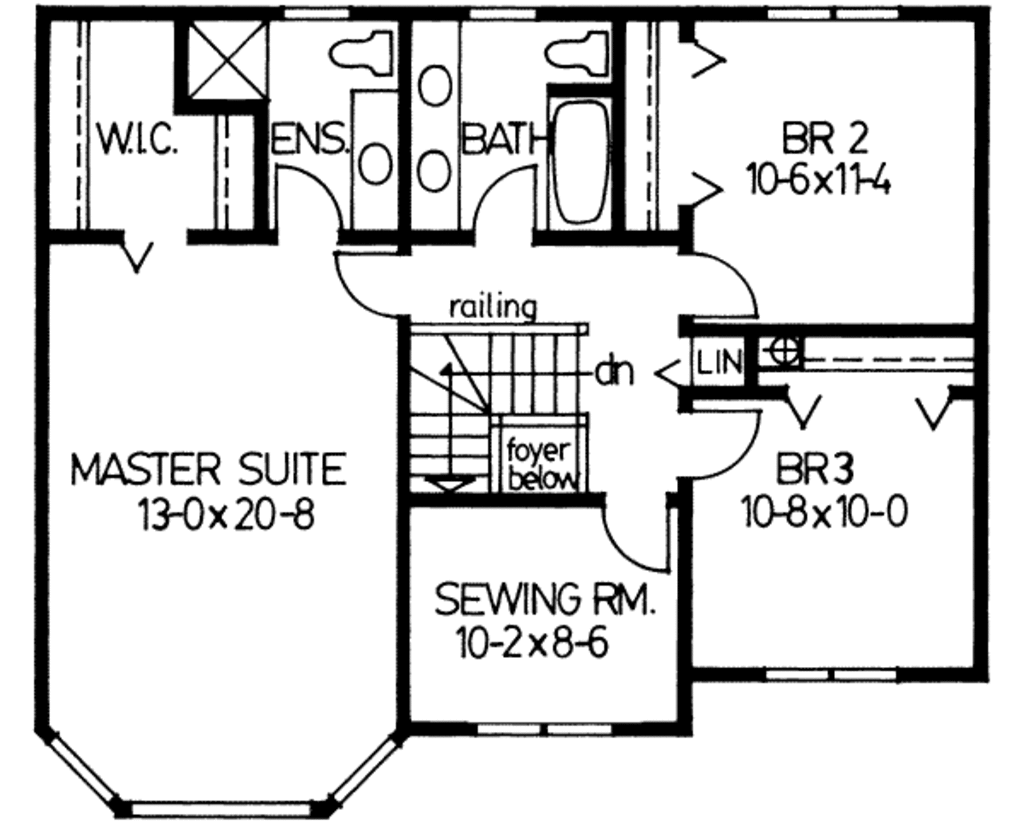door: (598, 490, 675, 577), (674, 250, 761, 327), (678, 406, 765, 481), (273, 163, 347, 246), (473, 163, 544, 247), (333, 244, 410, 317)
large_sink: (328, 25, 398, 83), (537, 24, 609, 80)
small_sink: (409, 19, 465, 232), (349, 83, 401, 236)
stairs: (411, 317, 584, 491)
tub: (546, 91, 624, 237)
window: (122, 797, 326, 823), (42, 733, 117, 803), (764, 662, 903, 693), (334, 735, 398, 802), (761, 4, 905, 31), (472, 719, 623, 740), (463, 5, 541, 25), (275, 6, 354, 25)
